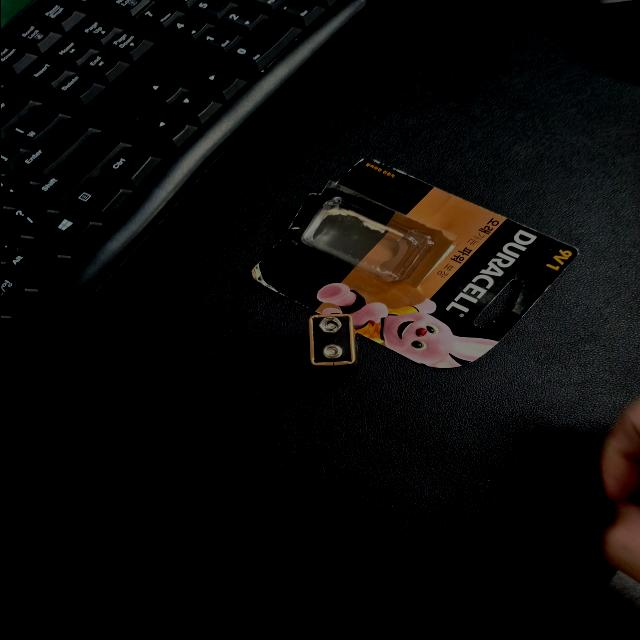9V: (205, 213, 286, 249)
